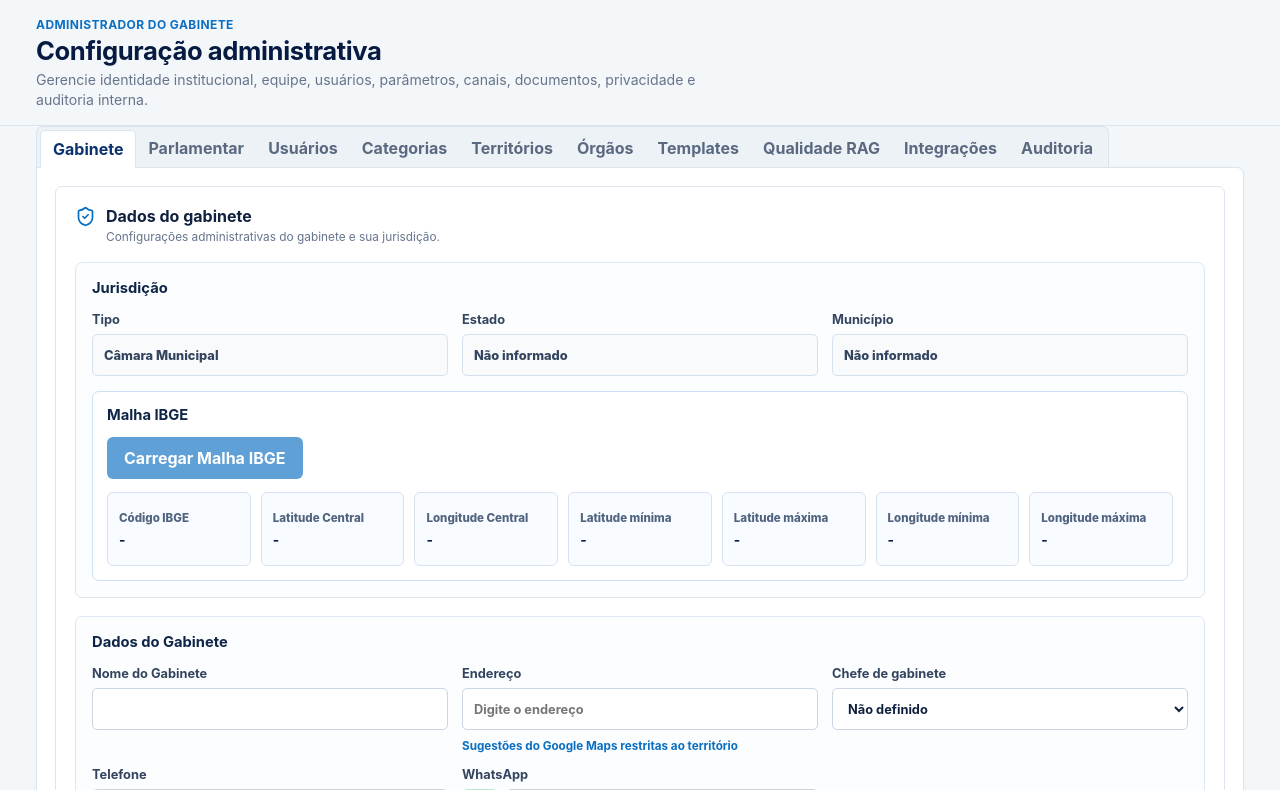
Test: AdministrationPage office settings › mostra plano contratado e restringe perfis disponiveis para usuarios
The image size is (1280, 790).
Click the button "Usuários": (303, 148) [256, 130, 350, 165]
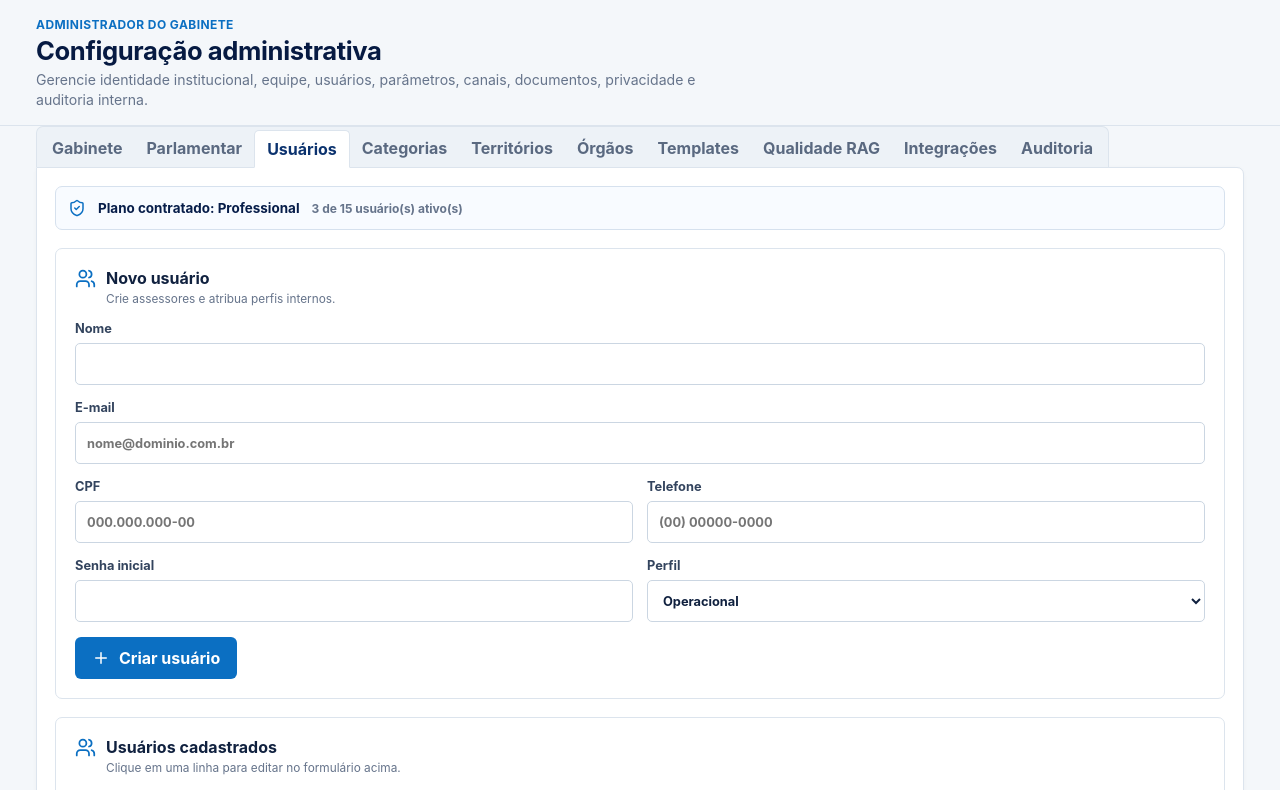
Expected: the text "Plano contratado: Professional" is shown, [98, 200, 300, 216]
Expected: the text "3 de 15 usuário(s) ativo(s)" is shown, [312, 201, 463, 216]
In the field labelled "CPF": (354, 522) [75, 501, 633, 543], type "52998224725"
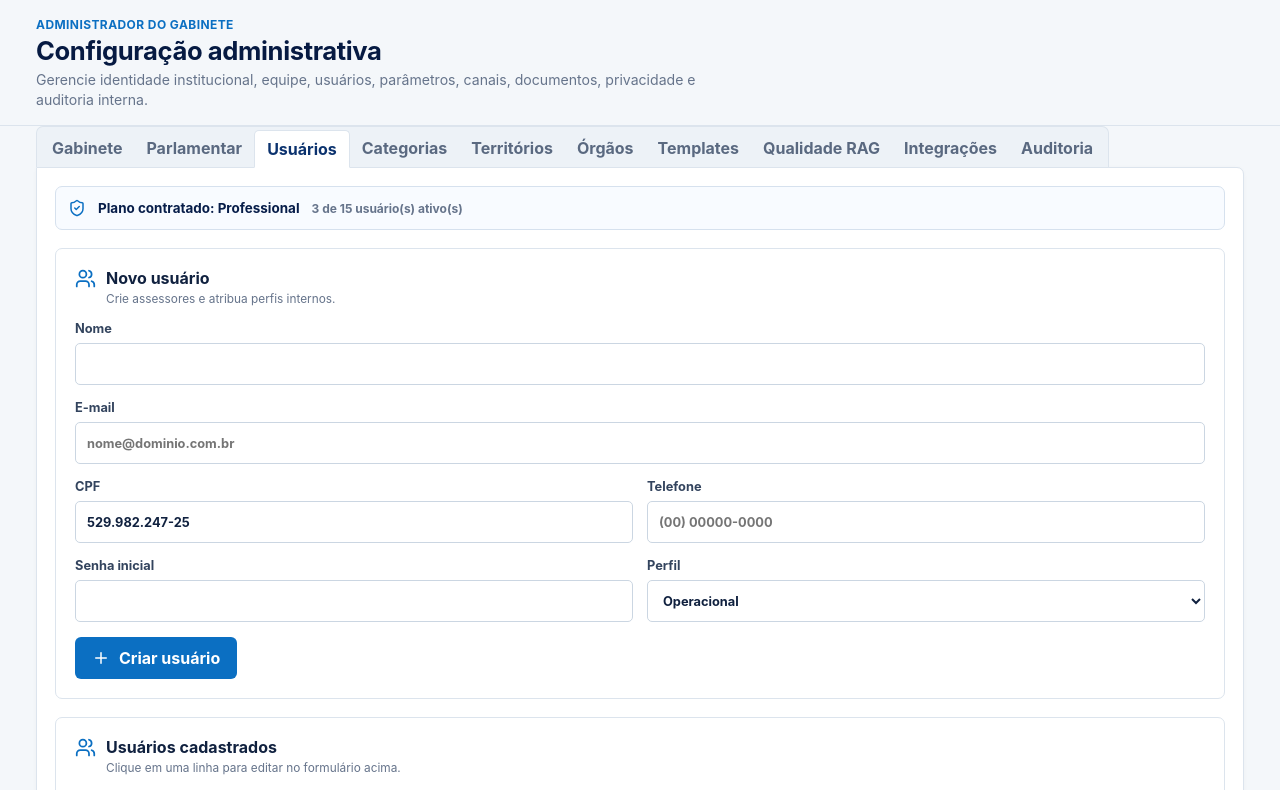
Expected: the field labelled "CPF" holds "529.982.247-25", [75, 501, 633, 543]
In the field labelled "Telefone": (926, 522) [647, 501, 1205, 543], type "32999990000"
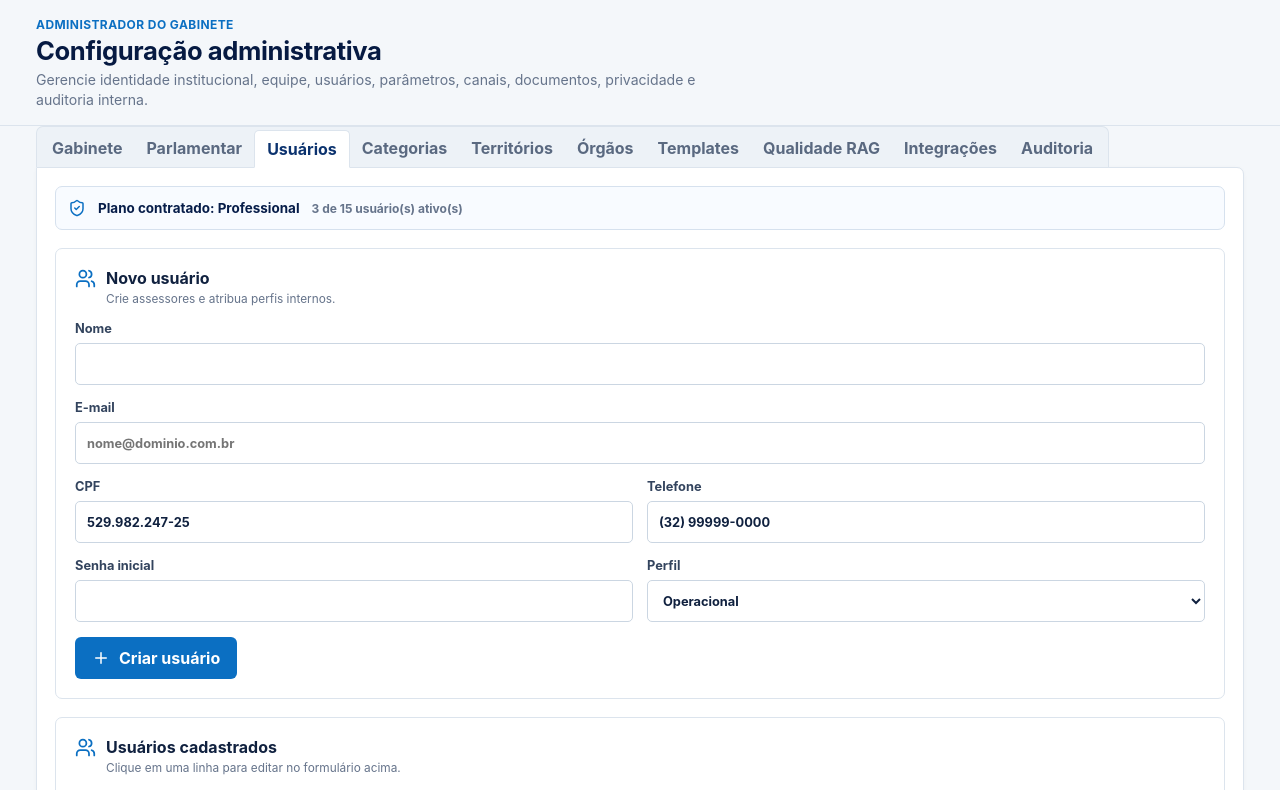
Expected: the field labelled "Telefone" holds "(32) 99999-0000", [647, 501, 1205, 543]
